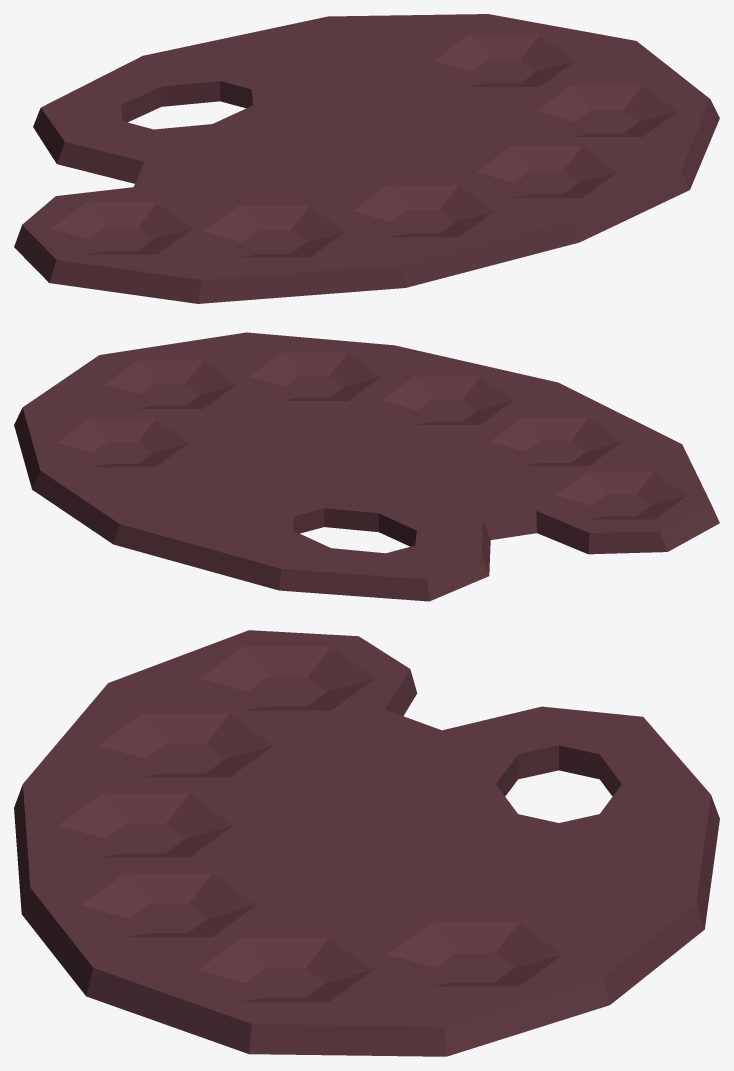
The model's file is palette-color.fbx.
3 views of the same model, one above another, from view 1: azimuth 30°, elevation 25°; view 2: azimuth 150°, elevation 25°; view 3: azimuth 270°, elevation 25° (orthographic). The views are drawn at different scales.
Parts seen in each view (by area): view 1: palette-color; view 2: palette-color; view 3: palette-color.
Part boxes in pixels (box(x1,y1,x2,y2)): palette-color: box(14, 14, 719, 303); palette-color: box(14, 332, 719, 601); palette-color: box(14, 630, 719, 1056).
Bounding box in the file's own units: 0.3026 × 0.00869 × 0.222.
